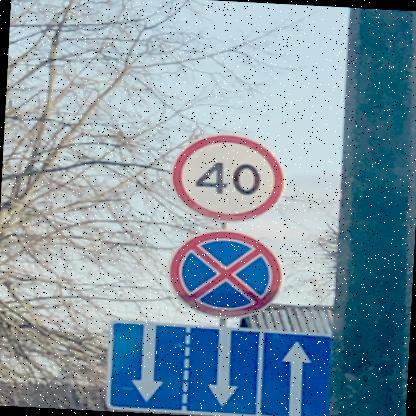speedlimit: (167, 130, 284, 221)
